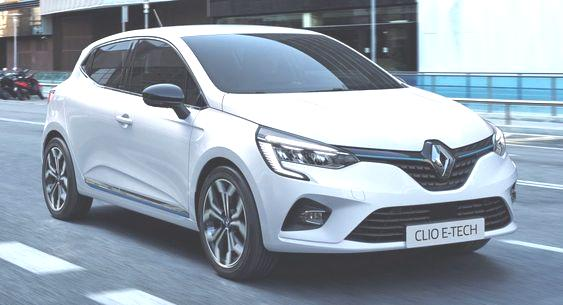Renault: (425, 137, 463, 184)
